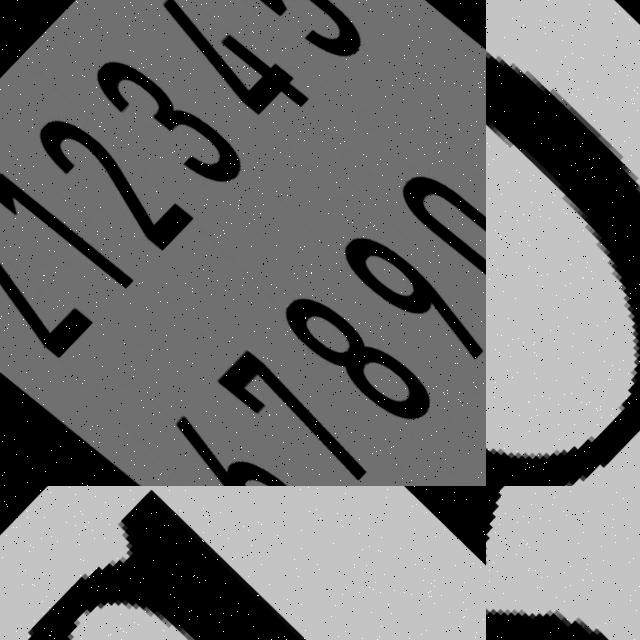0: (370, 125, 486, 332)
1: (0, 144, 149, 323)
2: (12, 80, 214, 282)
3: (64, 16, 265, 217)
4: (116, 0, 327, 153)
5: (188, 0, 382, 84)
6: (112, 350, 339, 486)
7: (186, 304, 388, 486)
8: (249, 248, 452, 451), (486, 486, 640, 640)
9: (311, 187, 486, 390)
O: (486, 48, 640, 486)
Q: (0, 486, 486, 640)
